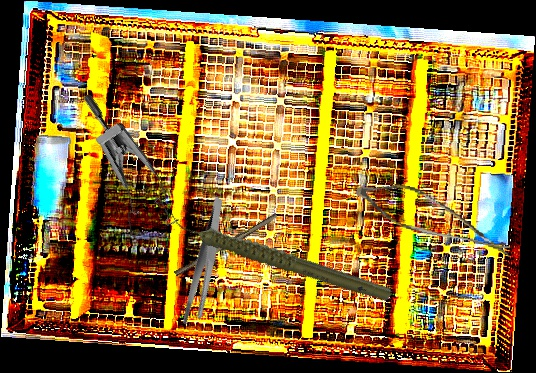Dressing Forceps: (156, 196, 255, 330)
Handpiece: (165, 167, 397, 345)
Micro Scissor: (349, 176, 523, 258)
Scalpel Handle: (174, 211, 279, 280)
Speculum: (37, 91, 200, 253)
